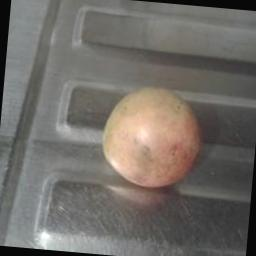Mango Unripe: (86, 64, 208, 188)
